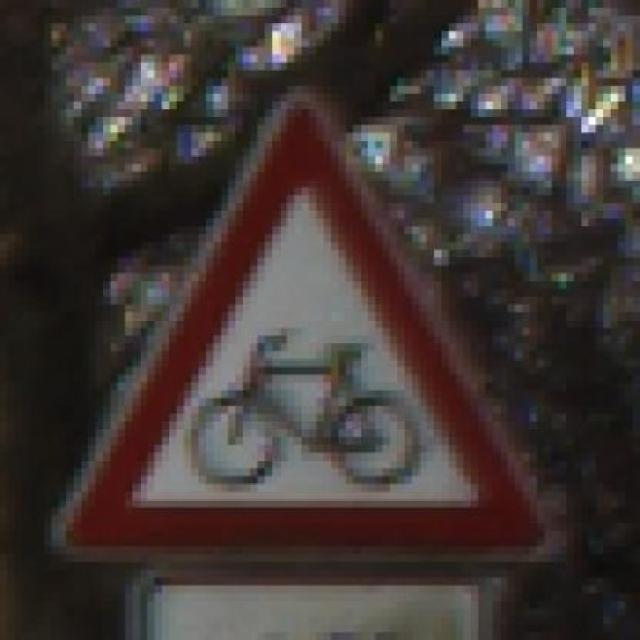CYCLE ROUTE AHEAD WARNING: (43, 78, 574, 578)
